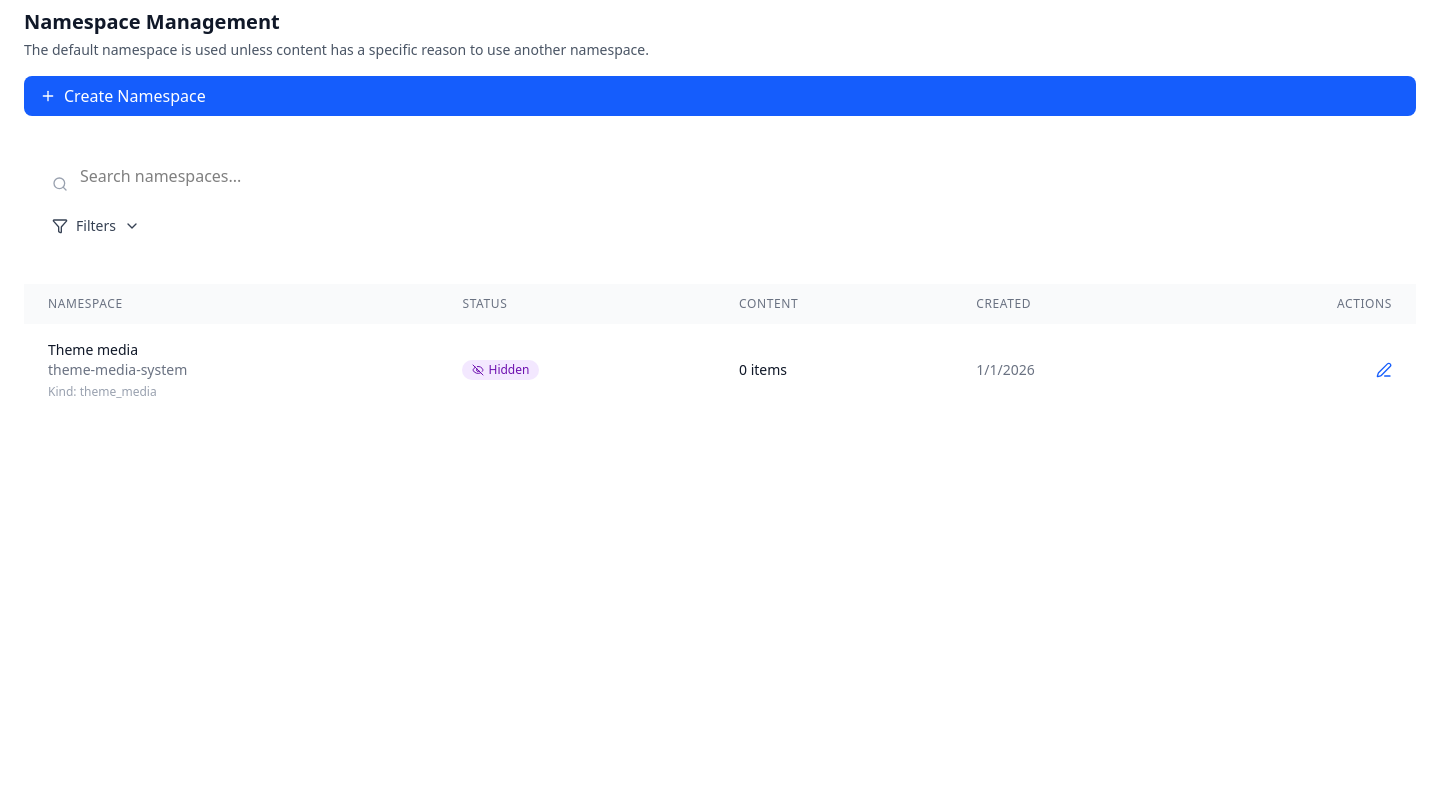
Test: NamespaceManager › keeps the system theme-media namespace protected
expect the text "theme-media-system" is shown: met, box [48, 360, 187, 379]
Click the button named "Edit Theme media" at (1384, 370), box [1376, 362, 1392, 378]
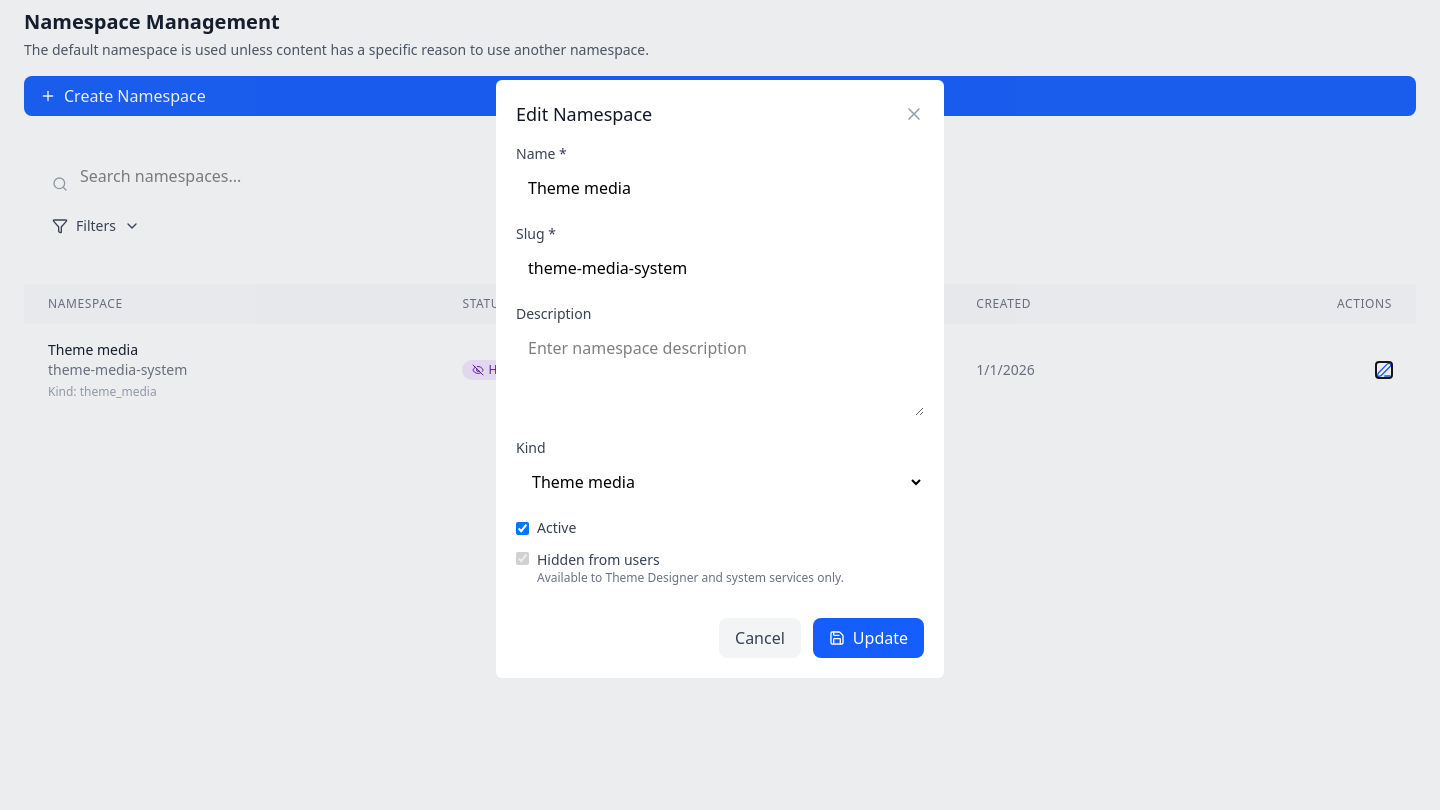
expect the dropdown labelled "Kind" is disabled: met, box [516, 462, 924, 502]
expect the checkbox labelled "Hidden from users" is disabled: met, box [516, 552, 529, 565]
